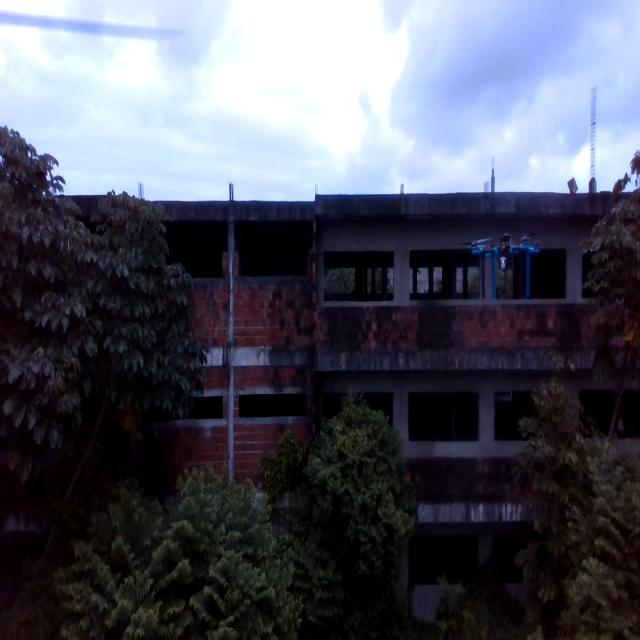-uav-: (459, 219, 568, 319)
